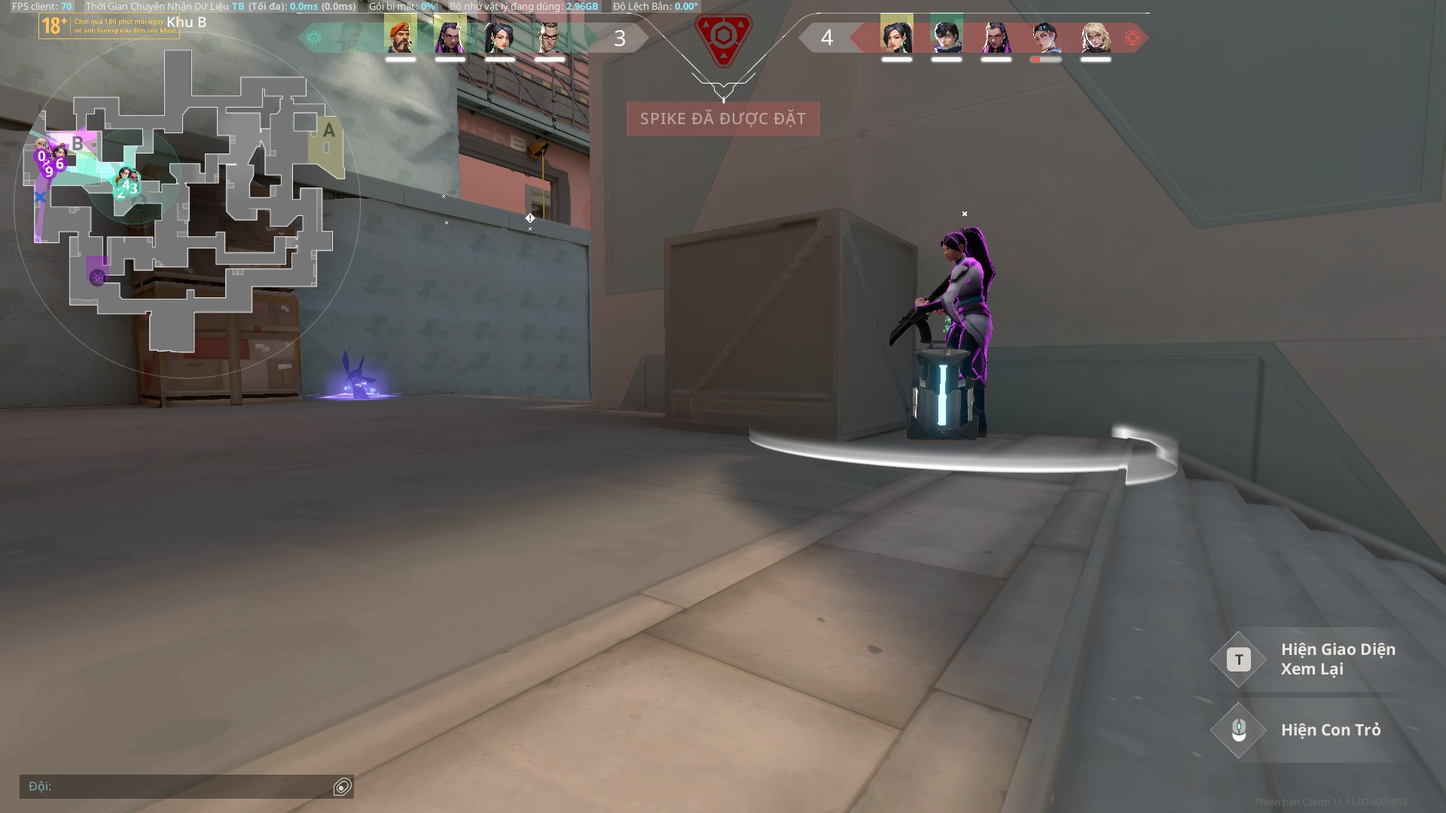body: (950, 258, 987, 312)
head: (941, 230, 966, 260)
